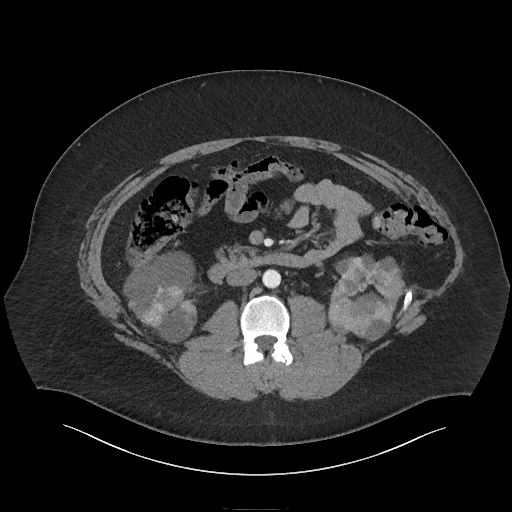Lesion: (140, 301, 167, 327)
